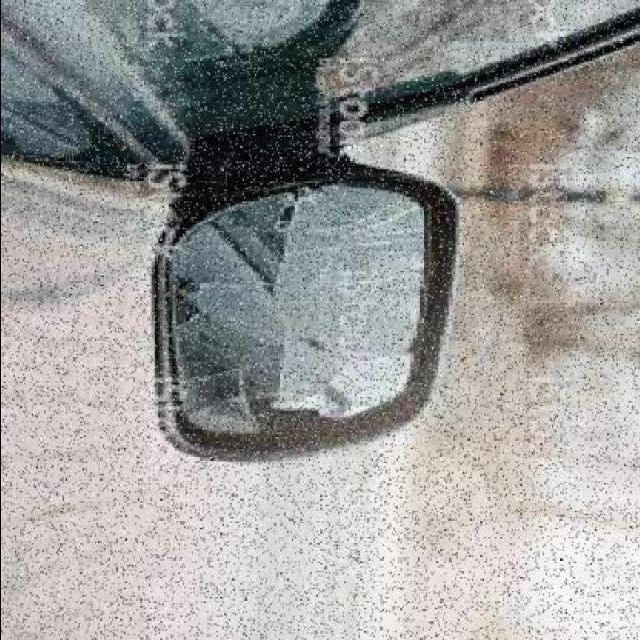Sidemirror-Damage: (143, 143, 467, 475)
